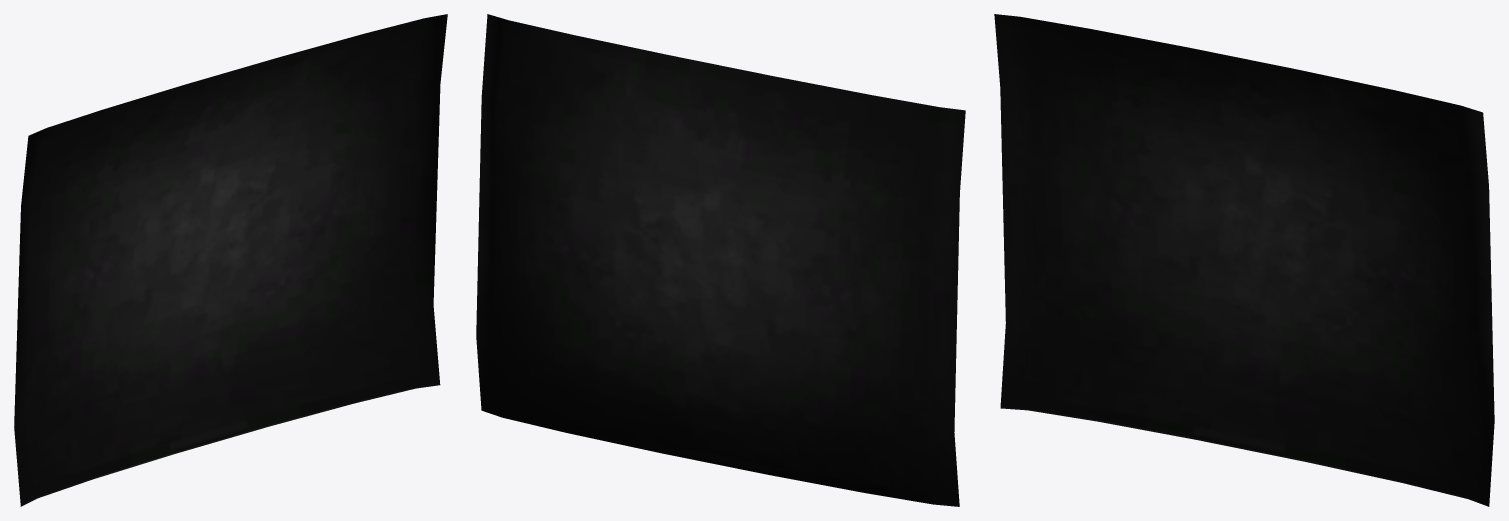
The model's file is tvscreen.fbx.
The picture shows the model from 3 angles, left to right: view 1: azimuth 30°, elevation 25°; view 2: azimuth 150°, elevation 25°; view 3: azimuth 330°, elevation 25°; orthographic projection. The views are drawn at different scales.
Parts seen in each view (by area): view 1: Furniture1.001; view 2: Furniture1.001; view 3: Furniture1.001.
Boxes of the visible parts, x1,y1,x2,y2 form: Furniture1.001: (14,14,447,506); Furniture1.001: (476,14,965,506); Furniture1.001: (994,14,1494,506).
Bounding box in the file's own units: 1.46 × 1.19 × 0.2399.
